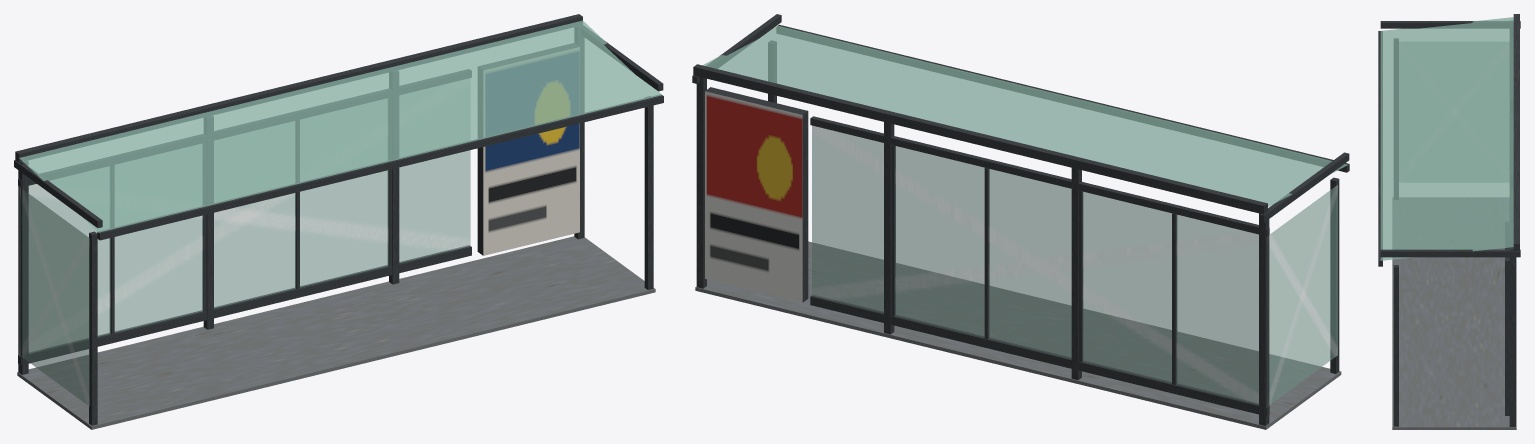
Rendered from wartehalle_h1.glb.
3 views of the same model, side by side, from view 1: azimuth 30°, elevation 25°; view 2: azimuth 150°, elevation 25°; view 3: azimuth 270°, elevation 25° (orthographic). The views are drawn at different scales.
Parts seen in each view (by area): view 1: H1; view 2: H1; view 3: H1.
Part boxes in pixels (x1,y1,x2,y2): H1: [14, 14, 663, 429]; H1: [692, 14, 1349, 429]; H1: [1378, 14, 1520, 429].
Bounding box in the file's own units: 7.02 × 2.64 × 1.83.
2 materials, 2 textured.
